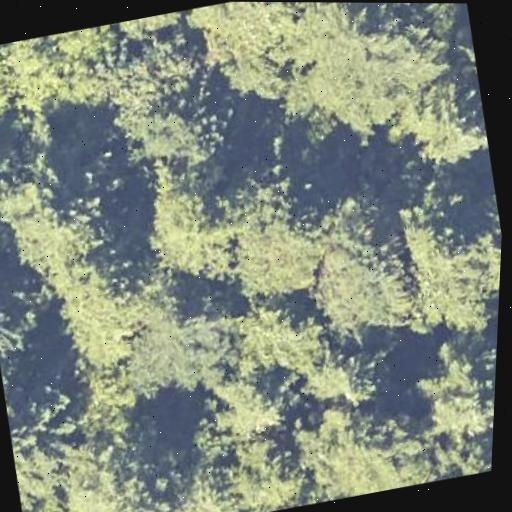tree-top: (273, 2, 461, 150), (294, 196, 429, 343), (390, 194, 504, 341), (0, 141, 121, 279), (294, 386, 433, 504), (214, 183, 345, 306), (128, 167, 248, 296), (119, 290, 241, 404), (104, 87, 242, 184), (185, 1, 309, 105), (0, 24, 119, 130), (45, 260, 153, 371), (53, 436, 196, 512), (408, 332, 497, 449), (0, 382, 85, 502), (197, 362, 304, 452), (108, 25, 216, 112), (212, 425, 315, 512), (289, 333, 393, 418), (408, 87, 492, 168), (0, 230, 41, 373), (61, 367, 136, 441), (170, 460, 242, 512), (425, 430, 493, 483), (458, 32, 491, 136)
